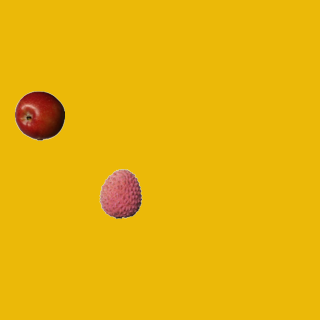Apple Braeburn: (14, 90, 64, 140)
Lychee: (95, 168, 145, 218)
